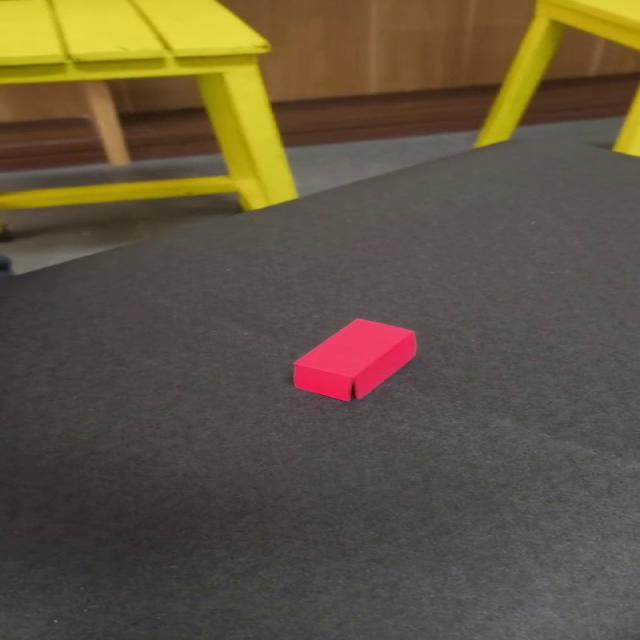red block: (291, 317, 417, 402)
